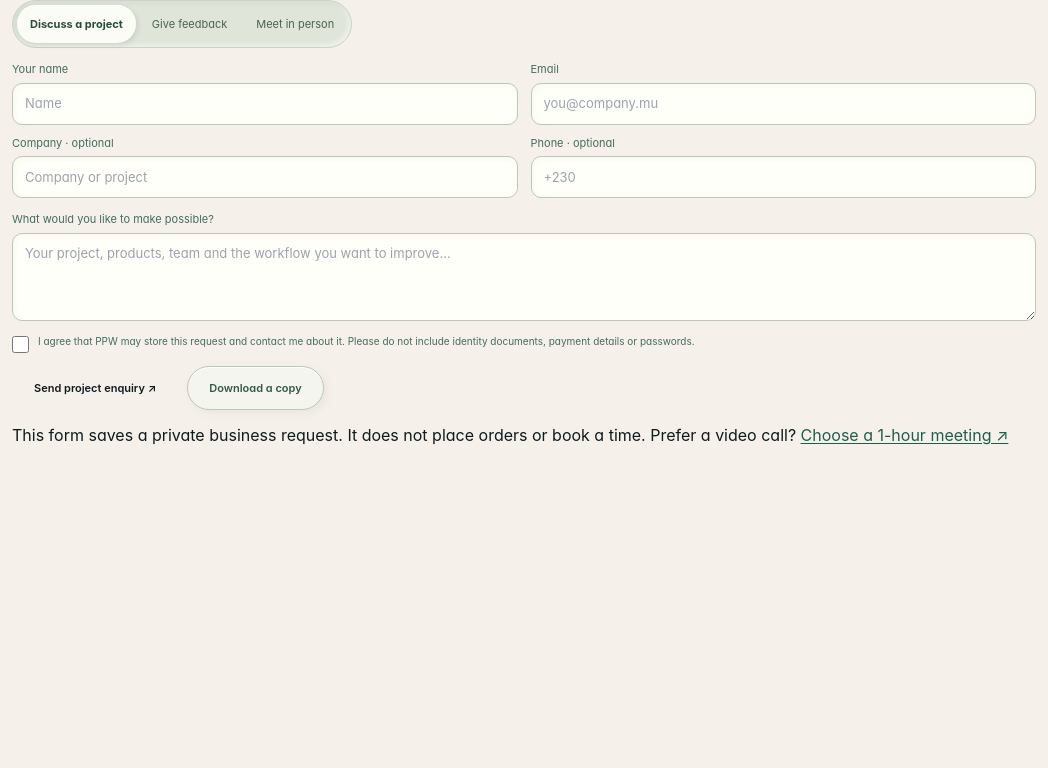
pitch form persistence › submits an in-person request with explicit consent and only confirms a server receipt
Click the button "Meet in person".
click(295, 24)  # box [243,5,347,43]
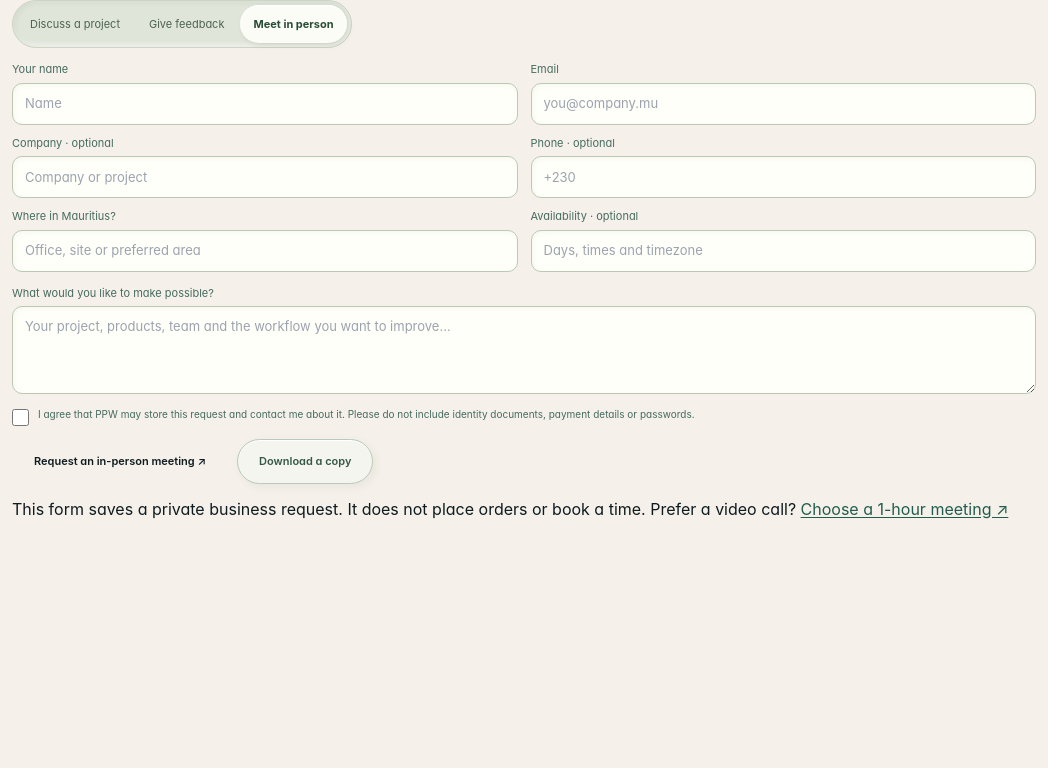
Type "Jane Smith" into the field labelled "Your name".
click(265, 104); type("Jane Smith")  # box [12,82,518,124]
Type "jane@example.com" into the field named "email".
click(783, 104); type("jane@example.com")  # box [530,82,1036,124]
Replace the text in the text box labelled "What would you like to make possible?" with "We want to connect our product catalogue." at [524, 350], box [12,306,1036,394]
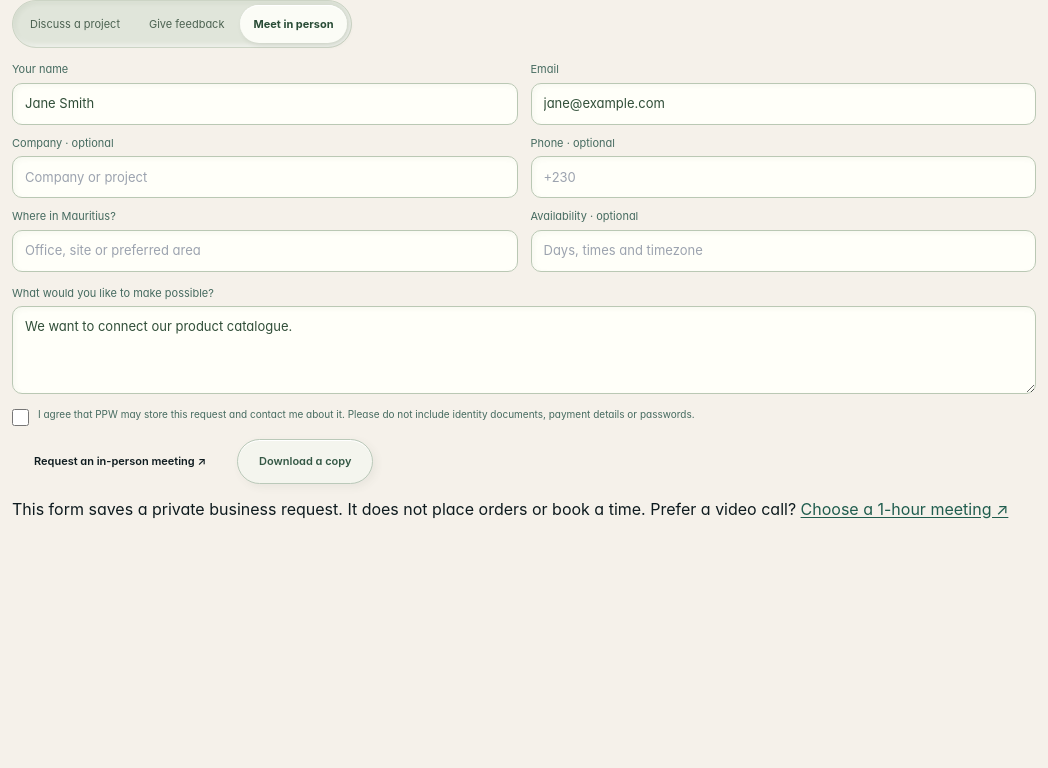
Type "Office in Ebene" into the field named "location".
click(265, 250); type("Office in Ebene")  # box [12,230,518,272]
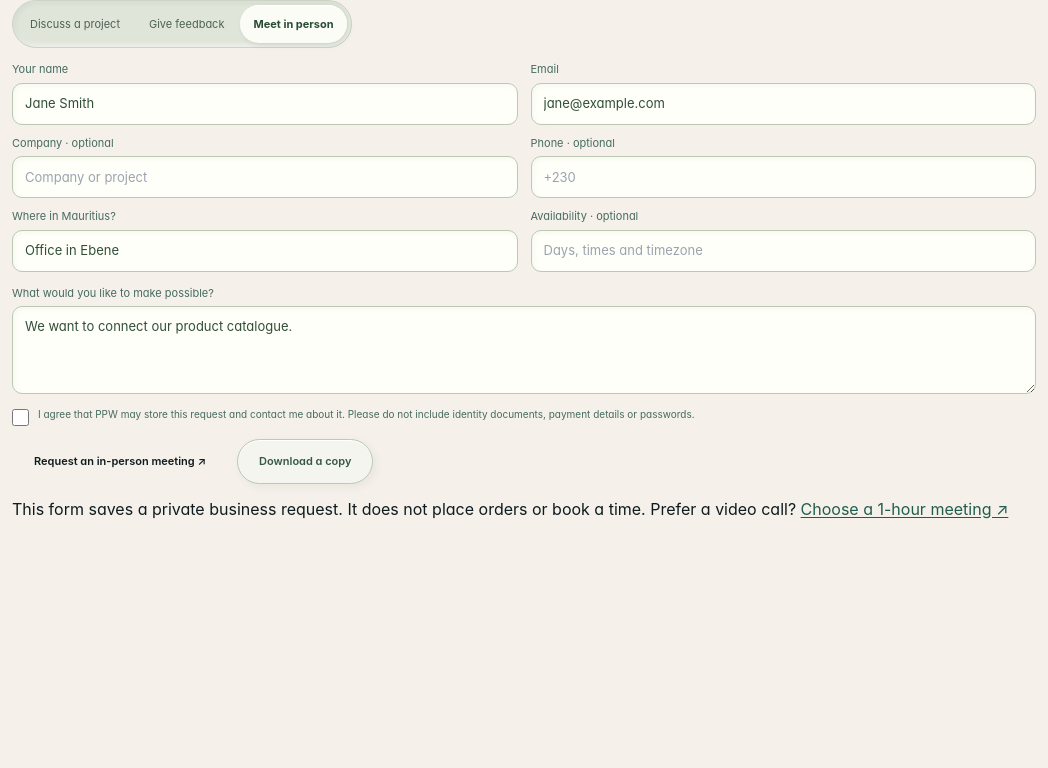
Type "Monday after 10am" into the field labelled "Availability · optional".
click(783, 250); type("Monday after 10am")  # box [530,230,1036,272]
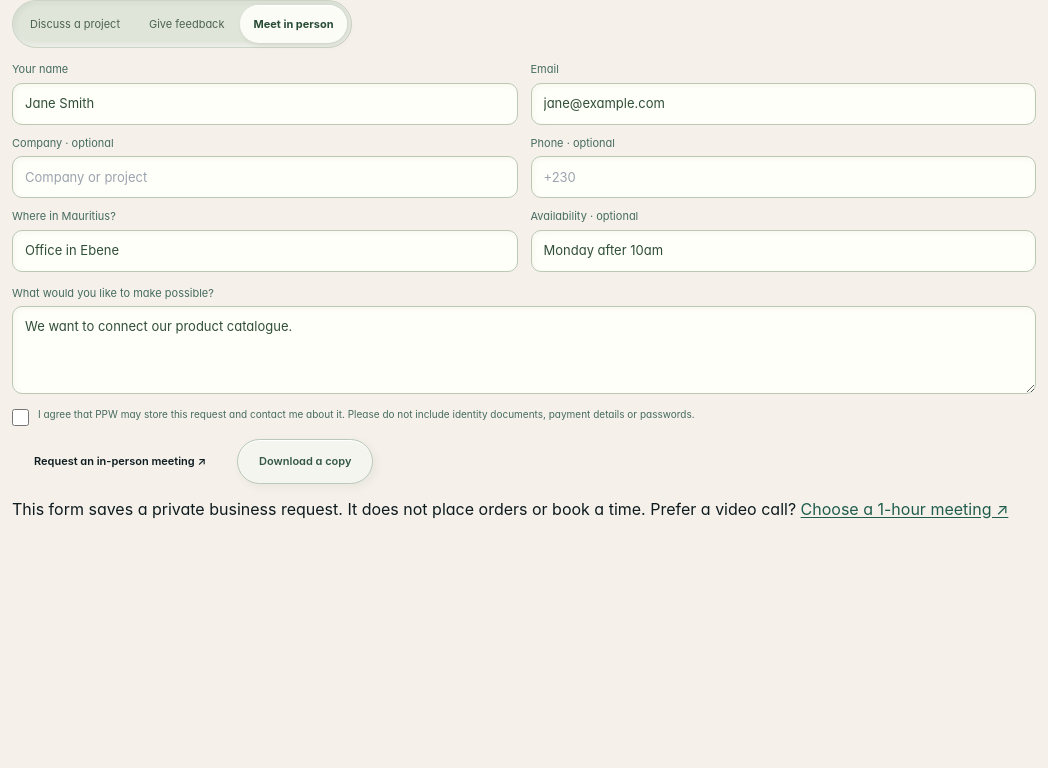
Click the checkbox named "consent".
click(20, 418)  # box [12,409,29,426]
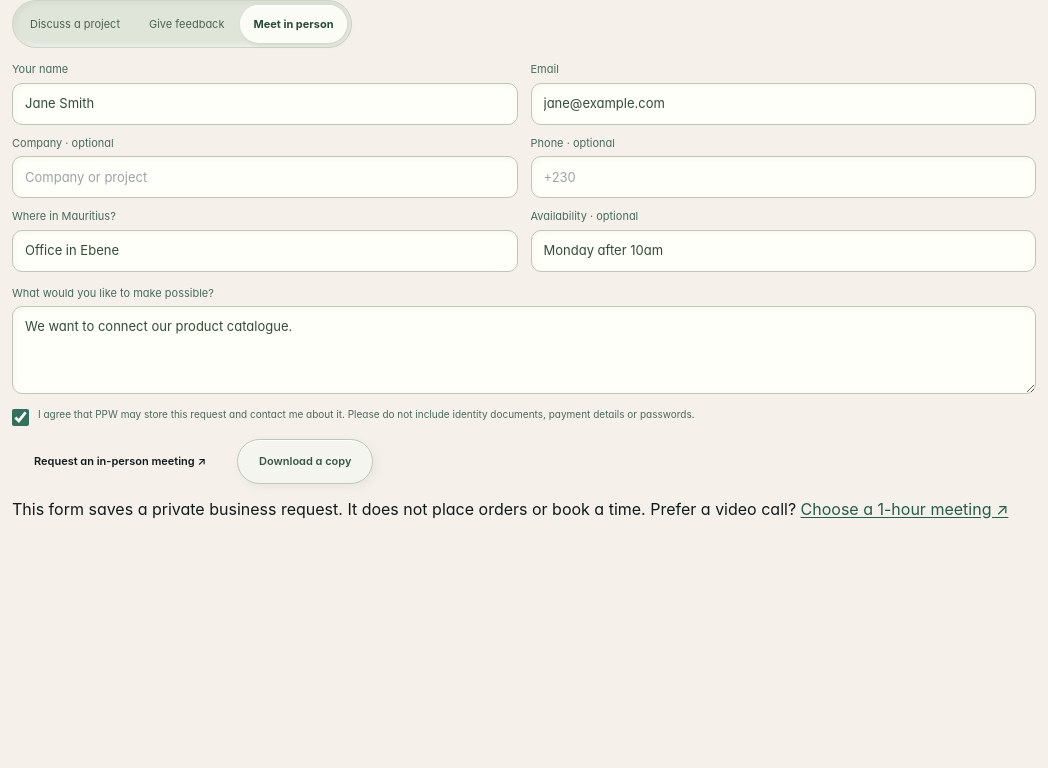
Submit the form
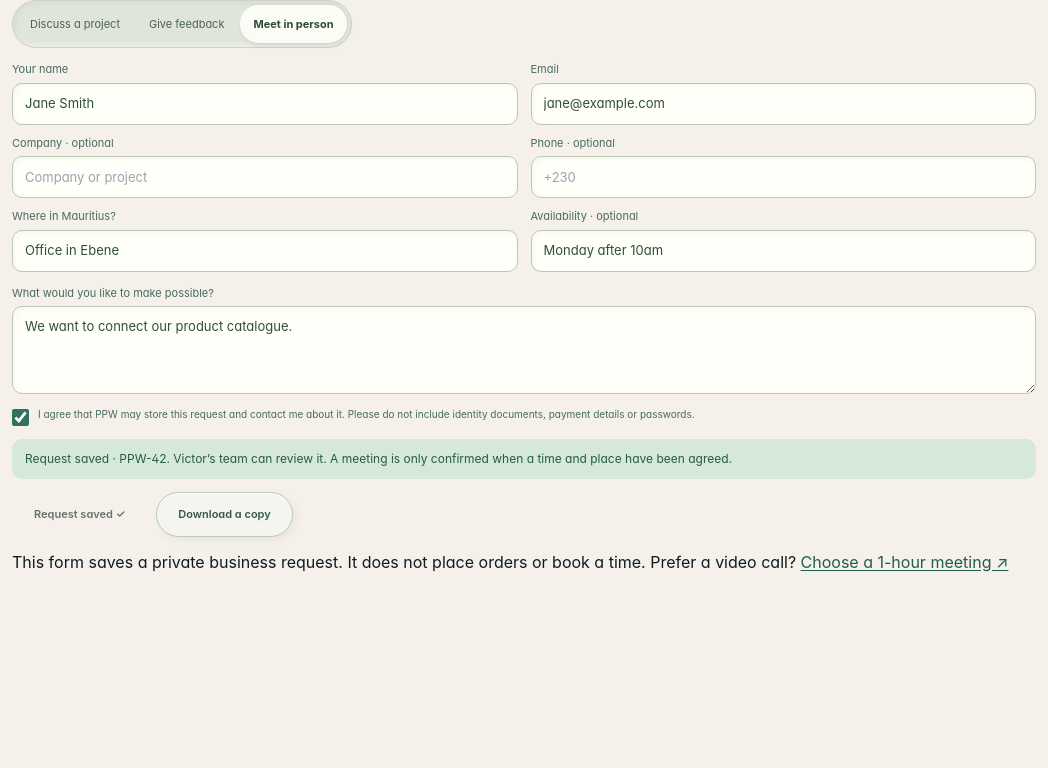
Result: the message shows "Request saved · PPW-42" at [25,451,732,466]
Result: the text "only confirmed when a time and place have been agreed" is shown at [25,451,732,466]
Result: the button "Request saved ✓" is disabled at [12,492,147,536]
